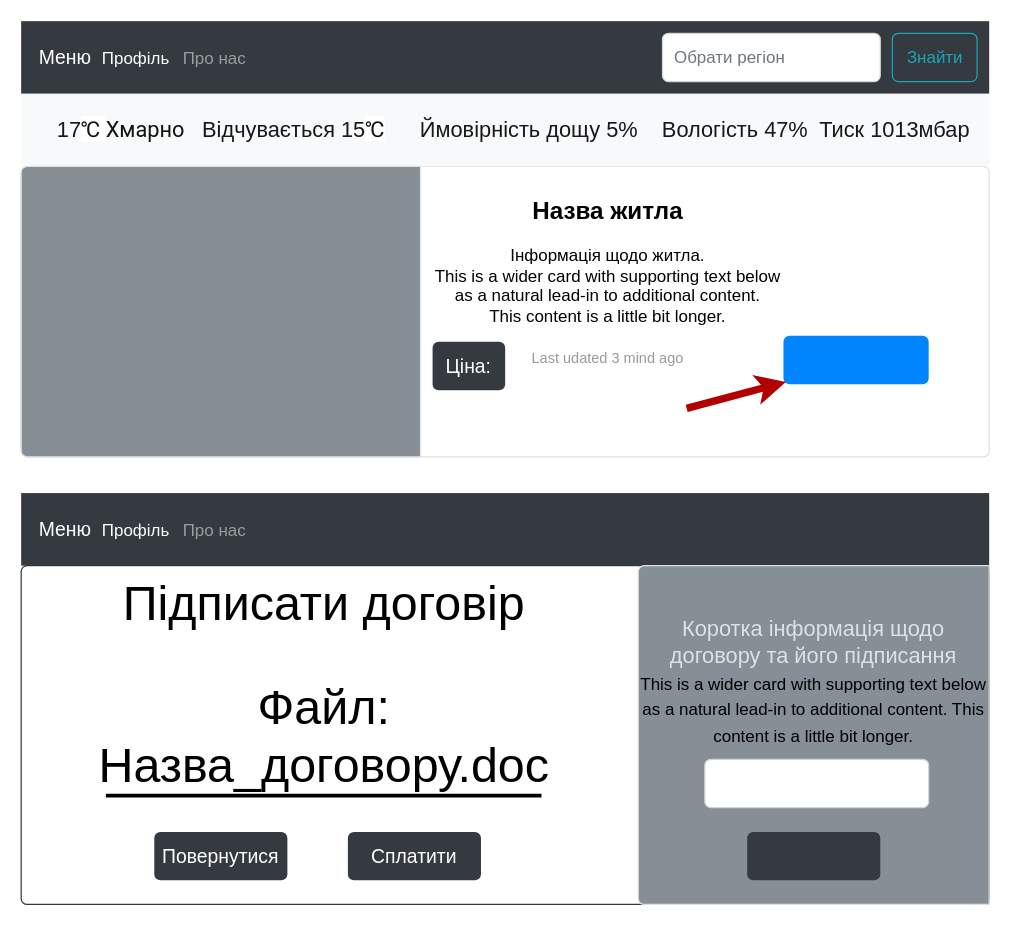
This 1010x926 diagram has some shape labels left out. The centre of each missing label's shape, as x and y in pixels:
Image: the point at 220,311
Згода з умовами договору: the point at 816,783
Підтвердити: the point at 813,855
Створити замовлення: the point at 855,359
